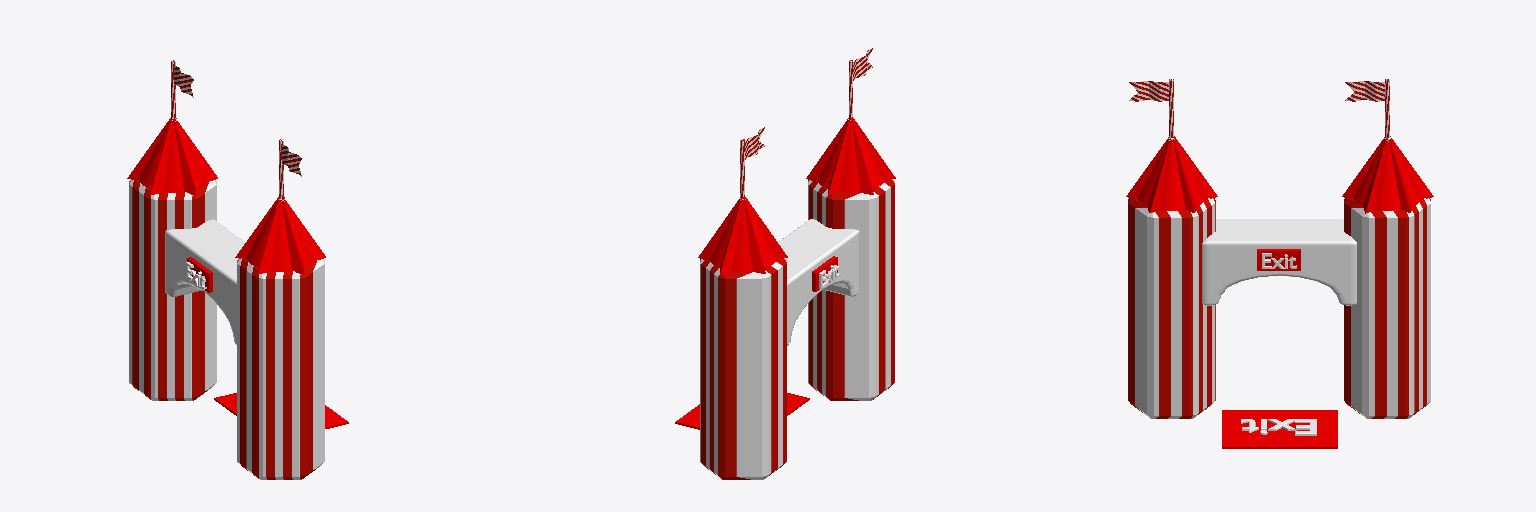
3 views of the same model, side by side, from view 1: azimuth 30°, elevation 25°; view 2: azimuth 150°, elevation 25°; view 3: azimuth 270°, elevation 25° (orthographic).
Visible parts, largest first — view 1: Circle.001_Material, Circle.001_red, Circle.001_white; view 2: Circle.001_Material, Circle.001_red, Circle.001_white; view 3: Circle.001_Material, Circle.001_red, Circle.001_white.
Boxes of the visible parts, x1,y1,x2,y2 form: Circle.001_Material: [129, 60, 324, 479]; Circle.001_red: [127, 118, 348, 428]; Circle.001_white: [165, 219, 245, 344]; Circle.001_Material: [700, 48, 894, 479]; Circle.001_red: [675, 118, 895, 429]; Circle.001_white: [778, 219, 859, 345]; Circle.001_Material: [1128, 79, 1430, 418]; Circle.001_red: [1126, 136, 1433, 448]; Circle.001_white: [1202, 219, 1356, 435].
Bounding box in the file's own units: 4.14 × 10.12 × 8.69.
Materials: 4 (3 with a texture image).